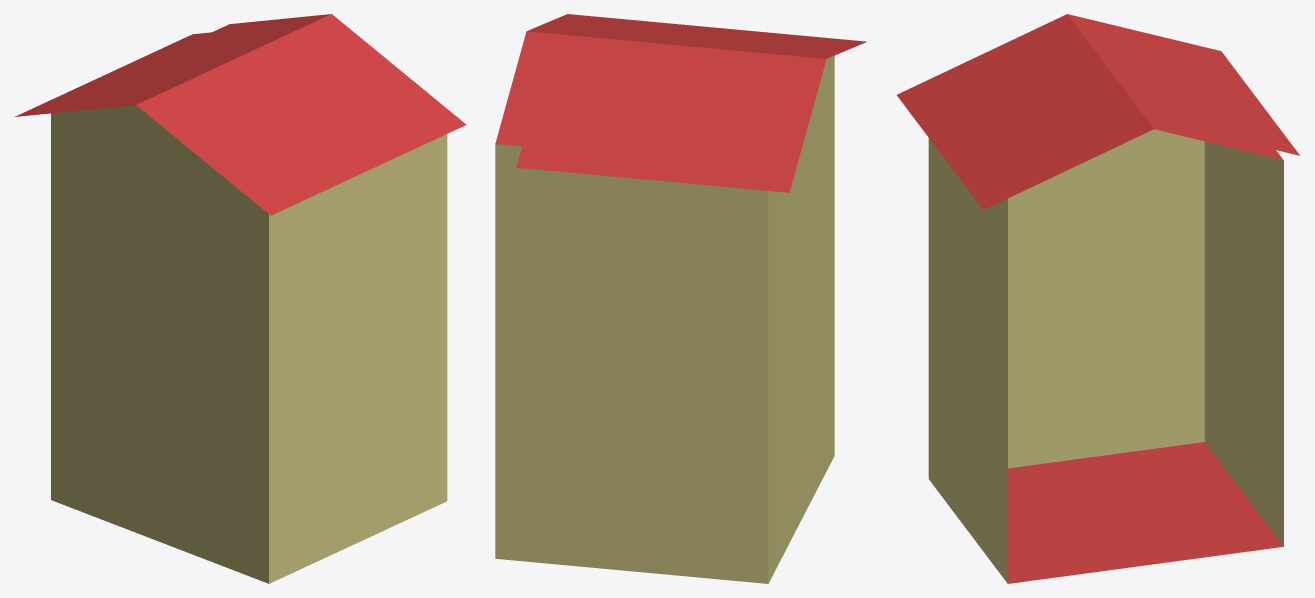
3 views of the same model, side by side, from view 1: azimuth 30°, elevation 25°; view 2: azimuth 150°, elevation 25°; view 3: azimuth 270°, elevation 25° (orthographic). The views are drawn at different scales.
Bounding box in the file's own units: 7.33 × 7.87 × 9.35.
